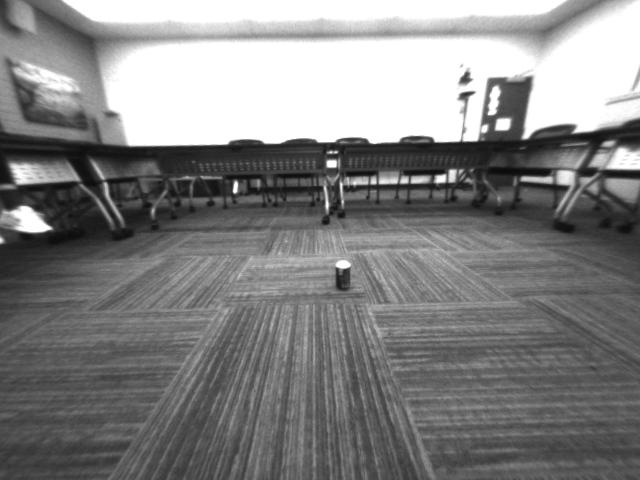can: (333, 252, 357, 295)
